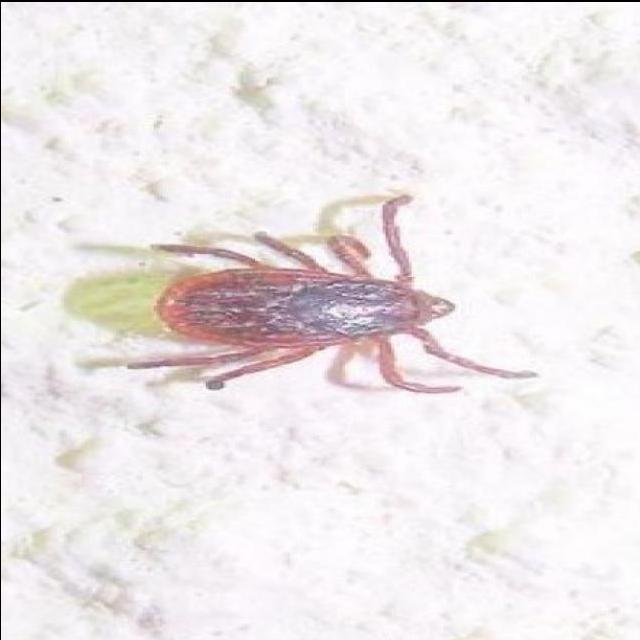Rhipicephalus Sanguineus-F: (127, 192, 538, 391)
